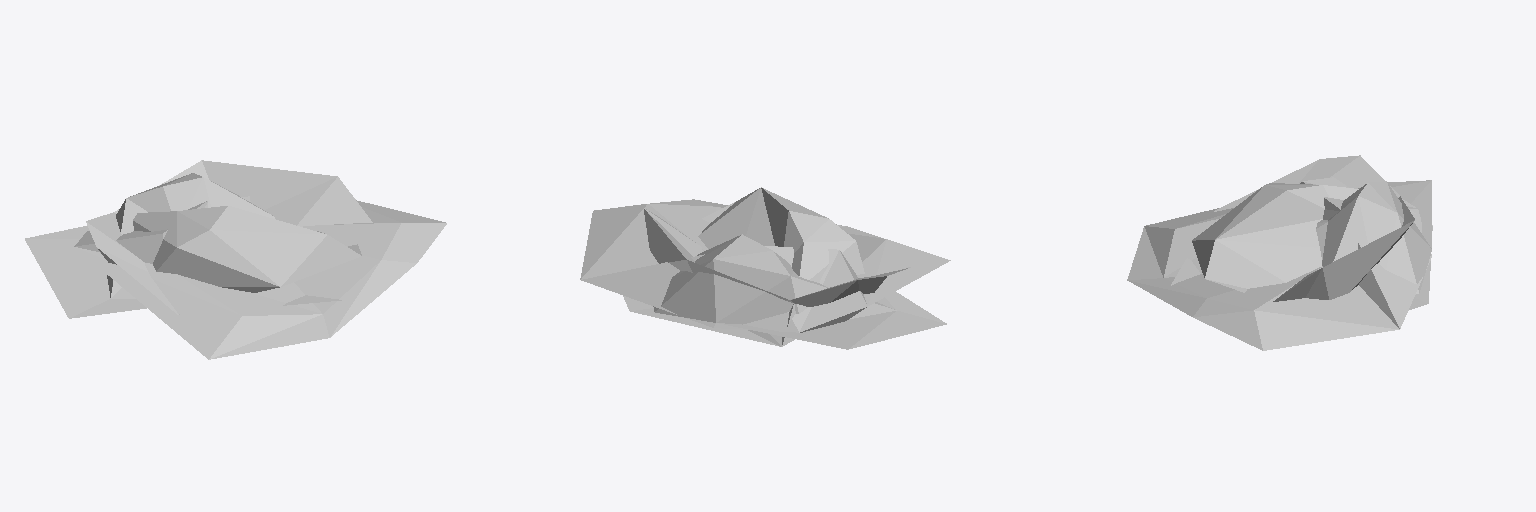
Rendered from Skin Chunks.obj.
3 views of the same model, side by side, from view 1: azimuth 30°, elevation 25°; view 2: azimuth 150°, elevation 25°; view 3: azimuth 270°, elevation 25° (orthographic).
Visible parts, largest first — view 1: flood_bit_skin; view 2: flood_bit_skin; view 3: flood_bit_skin.
Boxes of the visible parts, box(x1,y1,x2,y2) form: flood_bit_skin: box(25, 160, 446, 359); flood_bit_skin: box(580, 187, 950, 349); flood_bit_skin: box(1127, 155, 1432, 350).
Size of the model in its own units: 14.24 by 3.99 by 10.27.